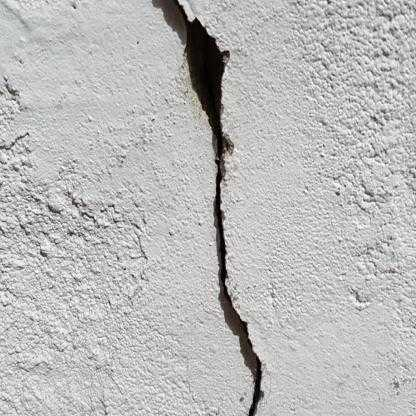crack: (175, 5, 269, 411)
